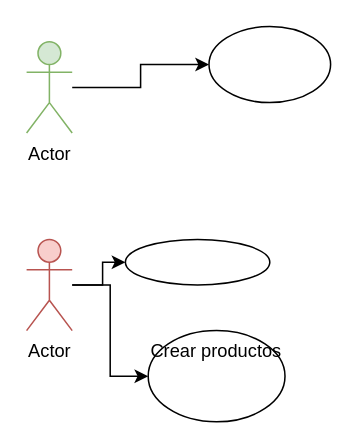
Image size: 357x448. Some labels were removed from this diagram. The centre of each missing label's shape, as x and y in pixels:
Consultar productos: (x=197, y=261)
Ingresar al sistema: (x=269, y=64)
